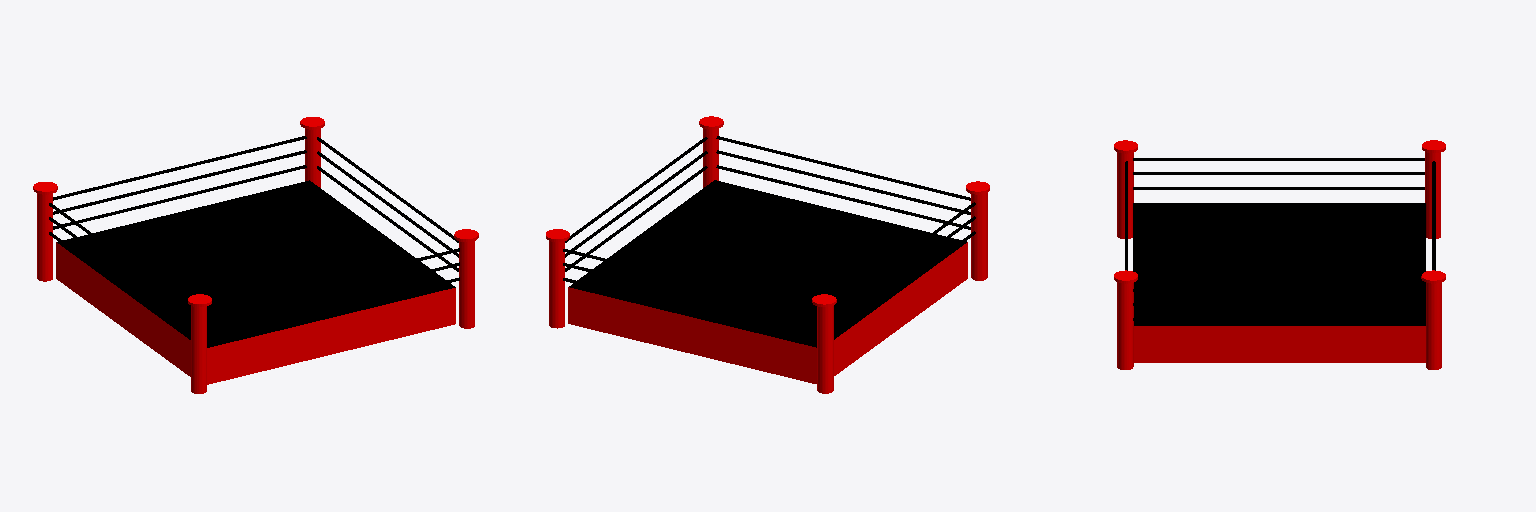
The picture shows the model from 3 angles: view 1: azimuth 30°, elevation 25°; view 2: azimuth 150°, elevation 25°; view 3: azimuth 270°, elevation 25°; orthographic projection.
Visible parts, largest first — view 1: 円柱.006; view 2: 円柱.006; view 3: 円柱.006.
Part boxes in pixels (x1,y1,x2,y2): 円柱.006: (33,117,478,393); 円柱.006: (546,116,989,393); 円柱.006: (1114,140,1445,369).
Size of the model in its own units: 81.84 by 24.72 by 81.81.
1 materials, 1 textured.